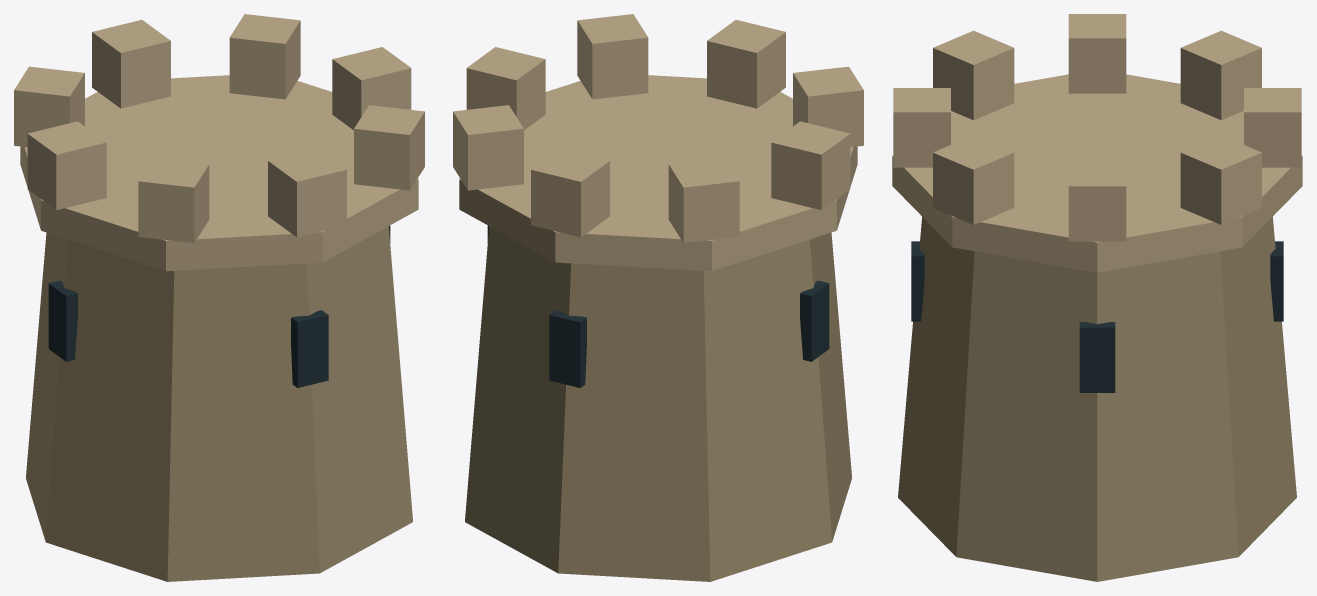
File: PirateCove_FortBastion_Simple.glb
3 renders of one model, left to right at view 1: azimuth 30°, elevation 25°; view 2: azimuth 150°, elevation 25°; view 3: azimuth 270°, elevation 25°, orthographic.
Visible parts, largest first — view 1: PirateCove_FortBastion_Simple; view 2: PirateCove_FortBastion_Simple; view 3: PirateCove_FortBastion_Simple.
Boxes of the visible parts, bbox=[...] form: PirateCove_FortBastion_Simple: bbox=[14, 14, 424, 581]; PirateCove_FortBastion_Simple: bbox=[453, 14, 863, 581]; PirateCove_FortBastion_Simple: bbox=[892, 14, 1302, 581].
Bounding box in the file's own units: 3.7 × 3.96 × 3.7.
